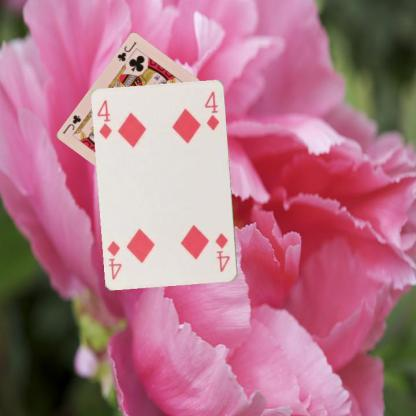4d: (212, 231, 232, 273), (95, 98, 113, 140)
Jc: (114, 39, 138, 63)
